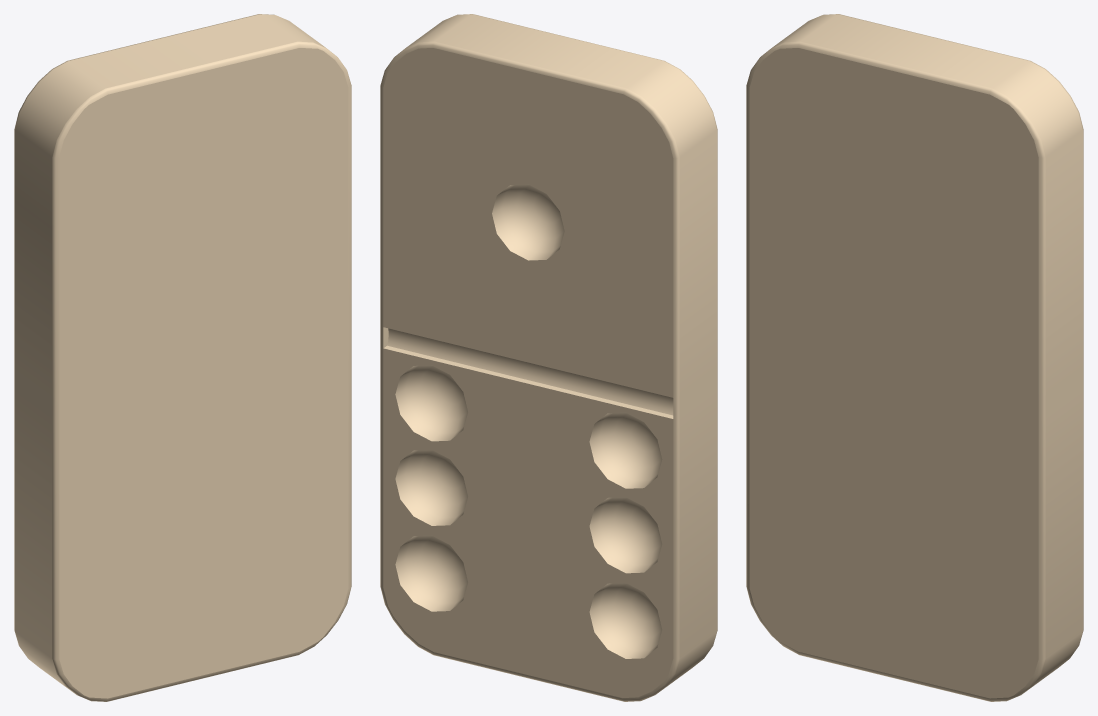
Rendered from Domino.glb.
3 views of the same model, side by side, from view 1: azimuth 30°, elevation 25°; view 2: azimuth 150°, elevation 25°; view 3: azimuth 330°, elevation 25° (orthographic).
Parts seen in each view (by area): view 1: Domino; view 2: Domino; view 3: Domino.
Boxes of the visible parts, x1,y1,x2,y2 form: Domino: (14,14,351,701); Domino: (380,14,717,701); Domino: (746,14,1083,701).
Bounding box in the file's own units: 1.12 × 2.2 × 0.2692.
